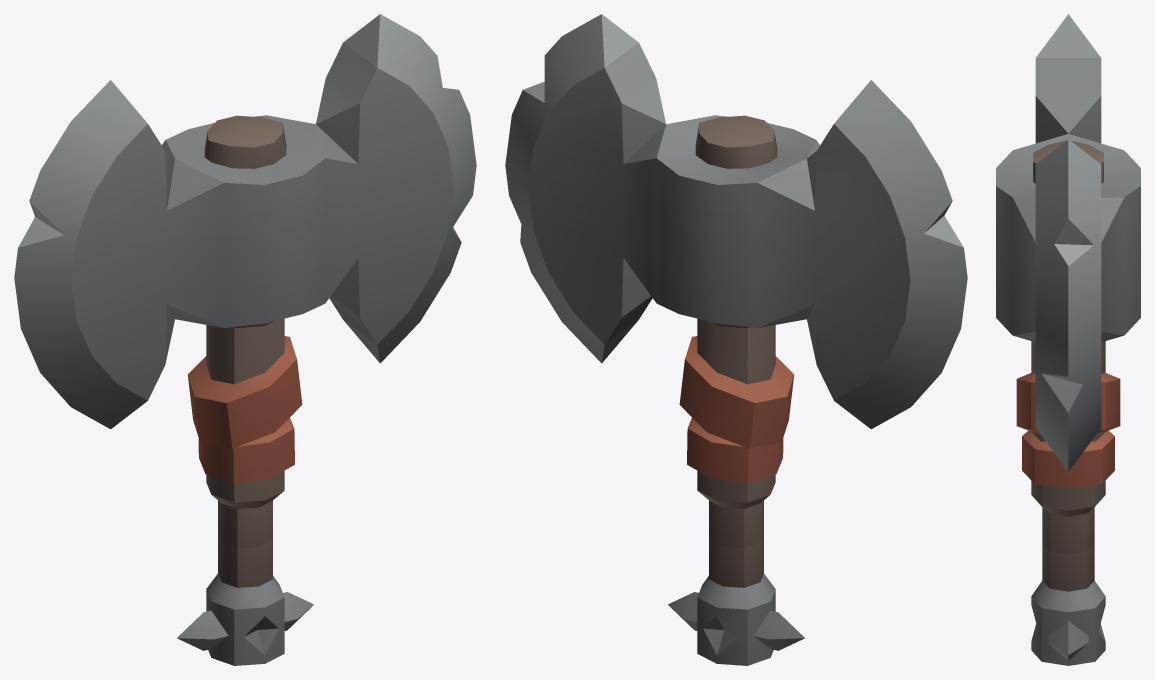
The model's file is Skeleton_Axe.glb.
The picture shows the model from 3 angles, left to right: view 1: azimuth 30°, elevation 25°; view 2: azimuth 150°, elevation 25°; view 3: azimuth 270°, elevation 25°; orthographic projection. The views are drawn at different scales.
Parts seen in each view (by area): view 1: Skeleton_Axe; view 2: Skeleton_Axe; view 3: Skeleton_Axe.
Part boxes in pixels (bbox=[...]): Skeleton_Axe: bbox=[14, 14, 476, 665]; Skeleton_Axe: bbox=[505, 14, 967, 665]; Skeleton_Axe: bbox=[996, 14, 1140, 665].
Bounding box in the file's own units: 0.9886 × 1.25 × 0.2819.
Materials: 1 (1 with a texture image).
